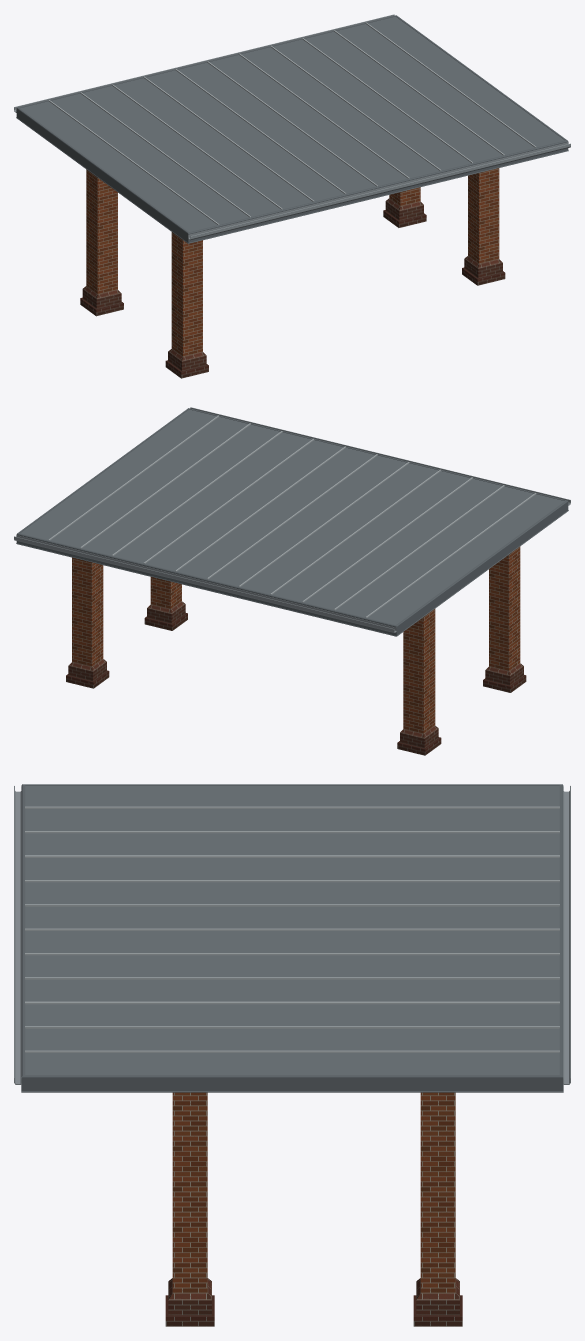
The model's file is brick-carport-crafted.glb.
3 renders of one model, top to bottom at view 1: azimuth 30°, elevation 25°; view 2: azimuth 150°, elevation 25°; view 3: azimuth 270°, elevation 25°, orthographic. The views are drawn at different scales.
Visible parts, largest first — view 1: tripo_node_c0dfd1e4-4c21-4f2b-bbc2-cbcb8d825253; view 2: tripo_node_c0dfd1e4-4c21-4f2b-bbc2-cbcb8d825253; view 3: tripo_node_c0dfd1e4-4c21-4f2b-bbc2-cbcb8d825253.
Part boxes in pixels (x1,y1,x2,y2): tripo_node_c0dfd1e4-4c21-4f2b-bbc2-cbcb8d825253: (14,14,570,378); tripo_node_c0dfd1e4-4c21-4f2b-bbc2-cbcb8d825253: (14,407,570,755); tripo_node_c0dfd1e4-4c21-4f2b-bbc2-cbcb8d825253: (14,784,570,1326).
Bounding box in the file's own units: 1 × 0.4223 × 0.8043.
1 material, 1 textured.
